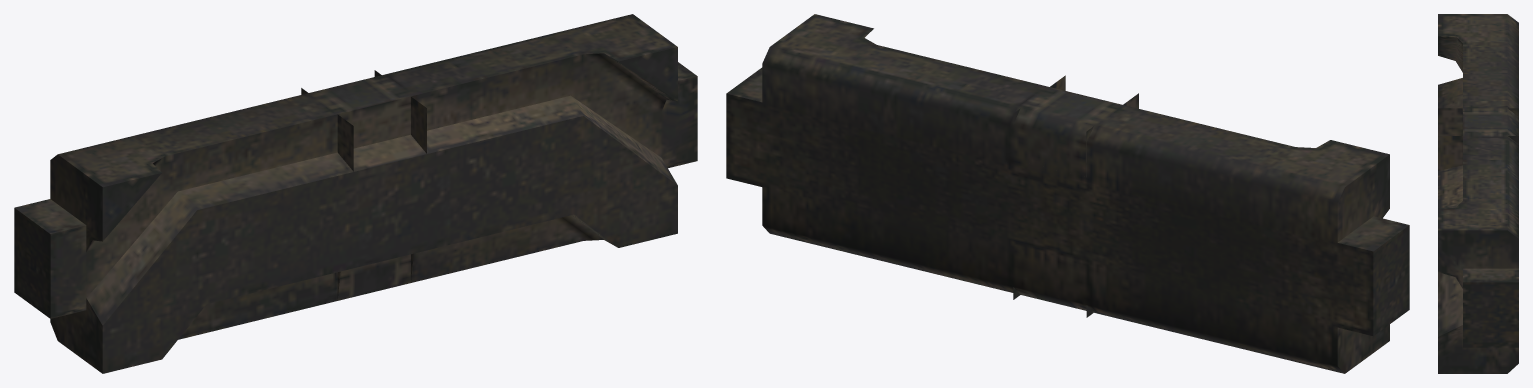
The picture shows the model from 3 angles, left to right: view 1: azimuth 30°, elevation 25°; view 2: azimuth 150°, elevation 25°; view 3: azimuth 270°, elevation 25°; orthographic projection. The views are drawn at different scales.
Visible parts, largest first — view 1: set_0_group_0; view 2: set_0_group_0; view 3: set_0_group_0.
Part boxes in pixels (x1,y1,x2,y2): set_0_group_0: (14, 14, 697, 373); set_0_group_0: (726, 14, 1409, 373); set_0_group_0: (1438, 14, 1518, 373).
Bounding box in the file's own units: 0.7116 × 0.1961 × 0.1.
1 material, 1 textured.
